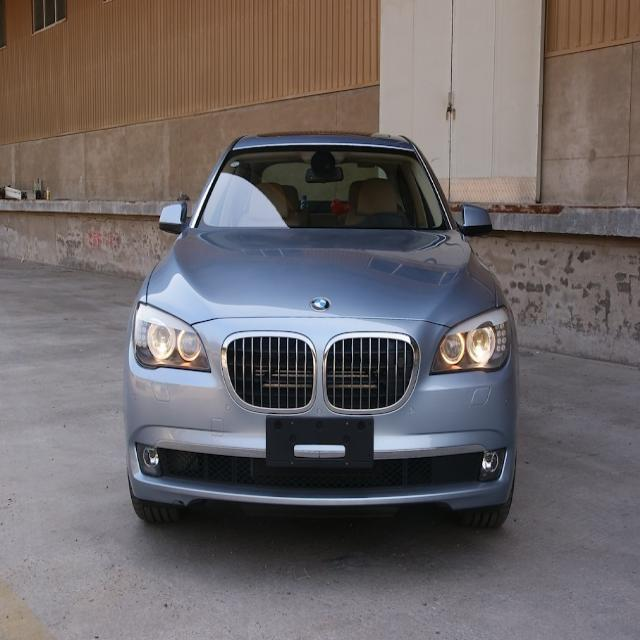front_bumper: (123, 314, 519, 508)
front_glass: (194, 144, 454, 231)
front_left_side_light: (431, 300, 514, 382)
front_left_side_mirror: (460, 202, 496, 242)
front_right_side_light: (132, 302, 213, 375)
front_right_side_mirror: (157, 200, 188, 238)
